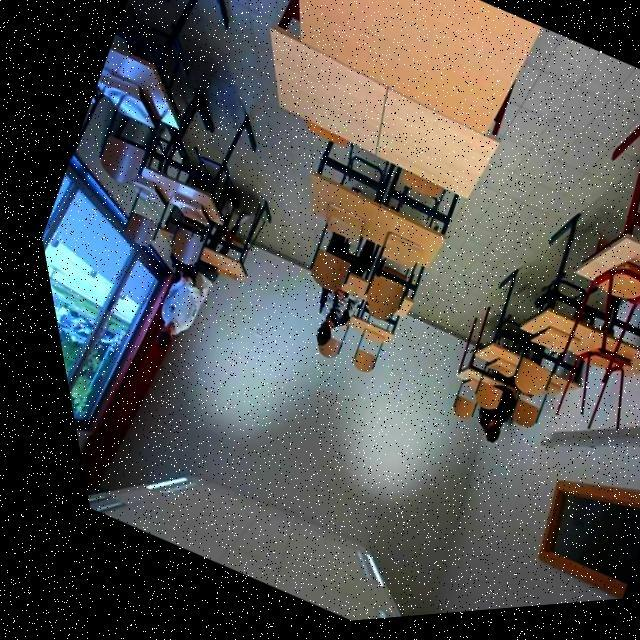phone_use: (315, 287, 354, 356), (478, 386, 514, 440)
